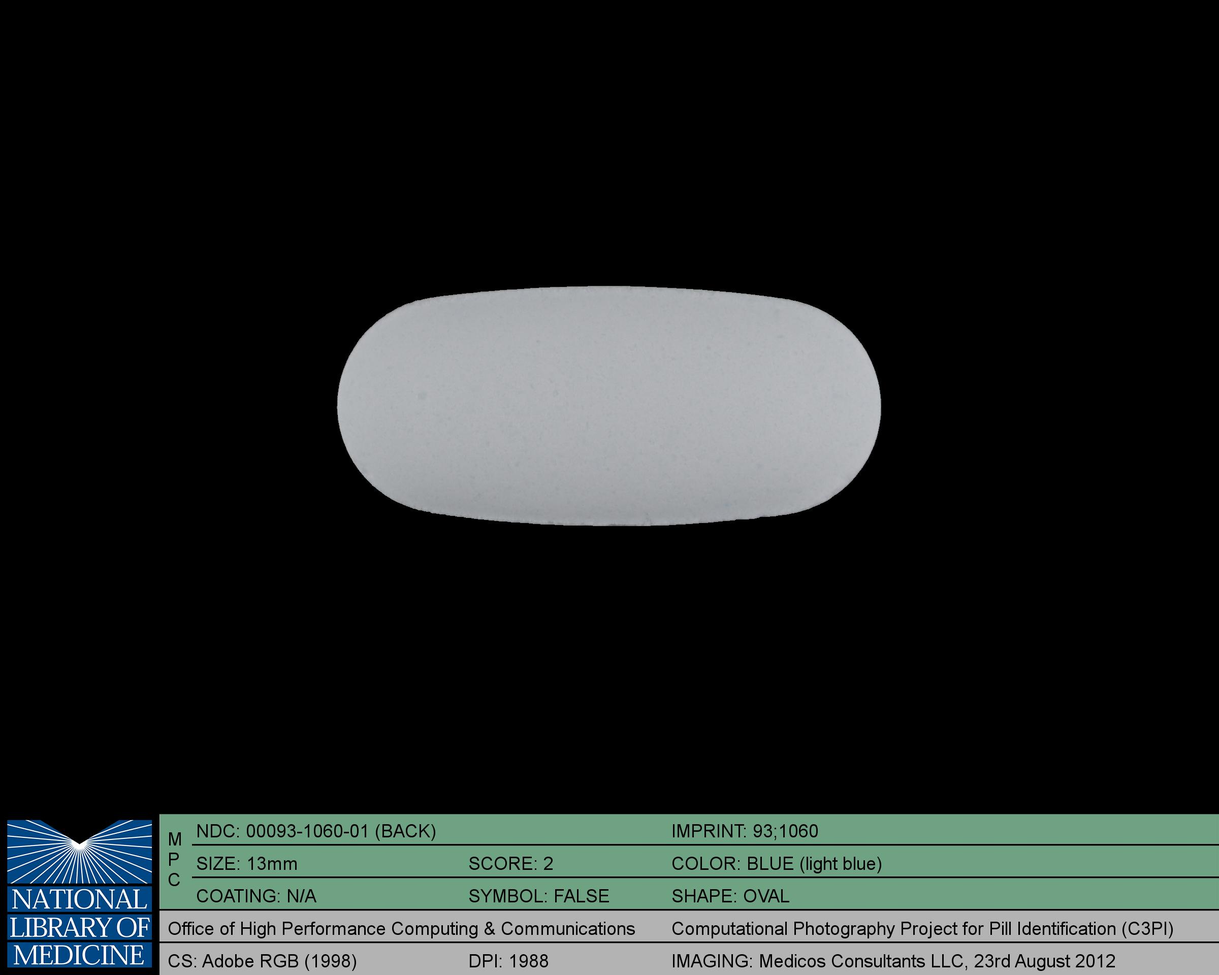Pill: (323, 274, 896, 538)
